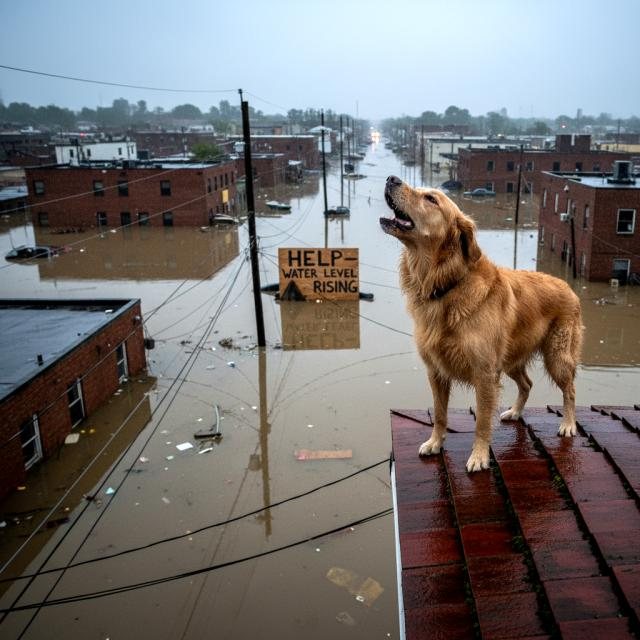dog: (374, 167, 590, 482)
